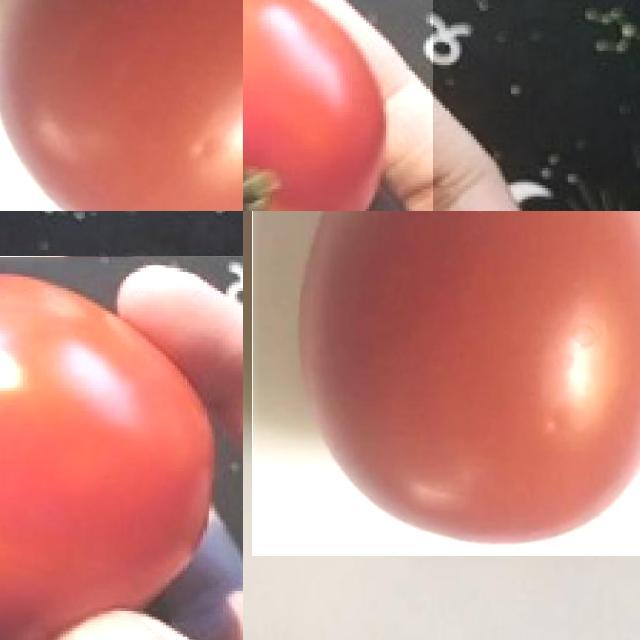Fresh Tomato: (252, 211, 640, 556), (0, 256, 243, 640), (0, 0, 243, 211), (243, 0, 433, 211)
